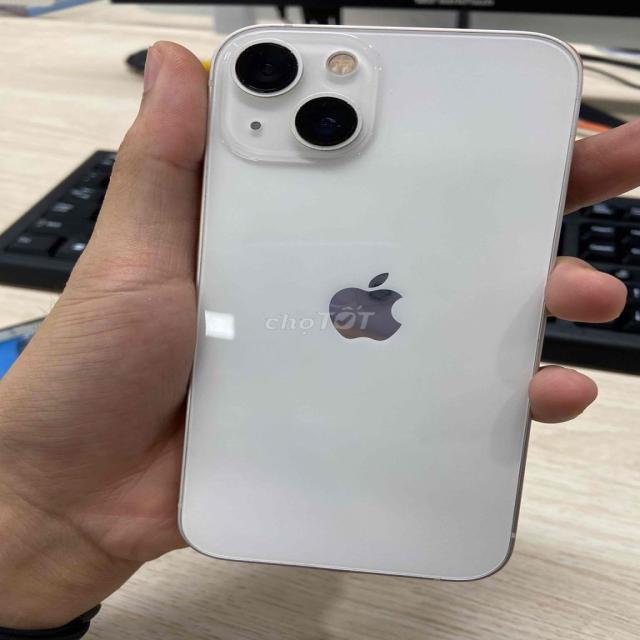gen_12_13: (173, 13, 592, 590)
